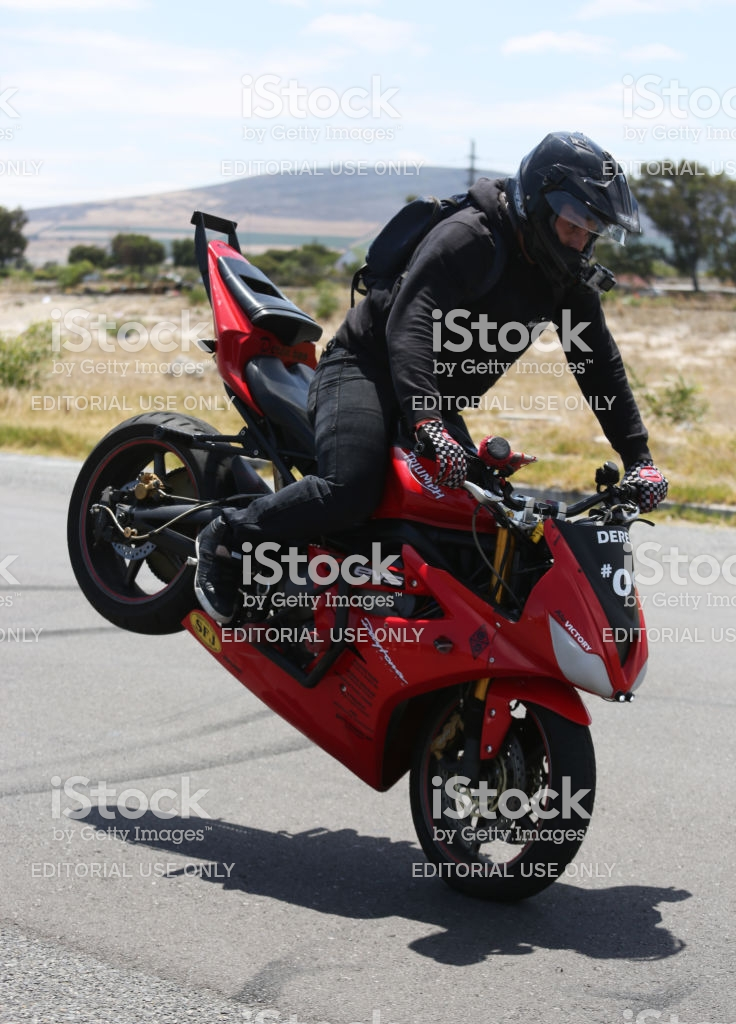helmet: (509, 123, 637, 265)
